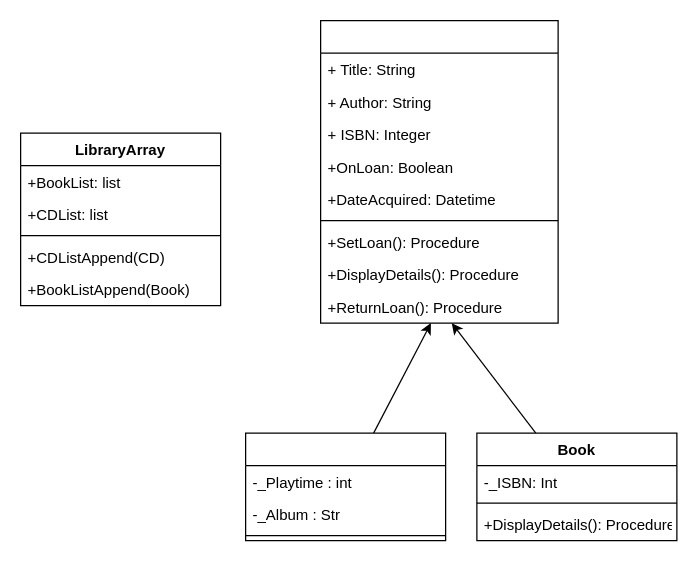
Image size: 698x561. Some labels were removed from this diagram. The box of each missing label's shape, as (x1, y1, x2, y2) in pixels:
CD: (244, 432, 446, 541)
Library Book: (319, 19, 558, 323)
